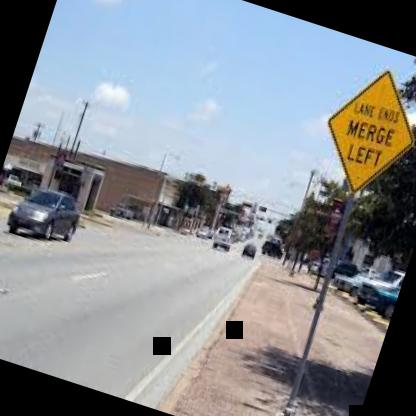car: (0, 167, 100, 271), (205, 212, 240, 260), (235, 226, 263, 270)
